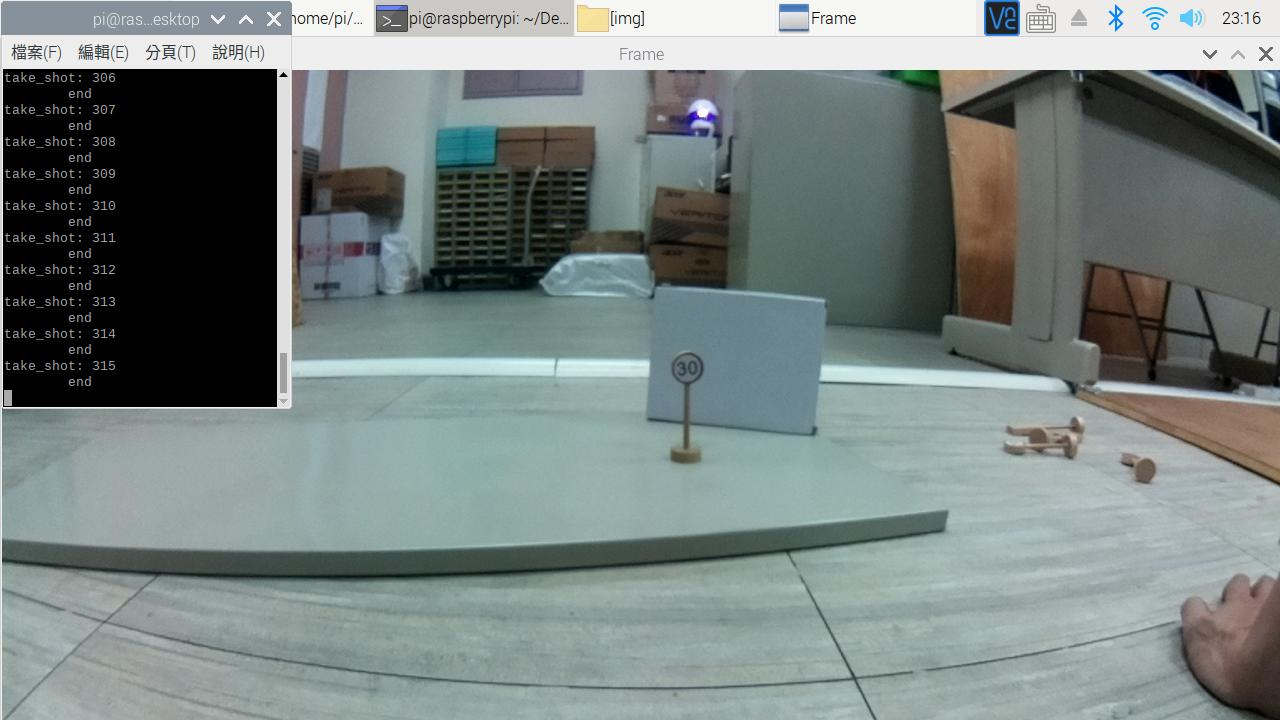Speed30: (657, 344, 716, 391)
